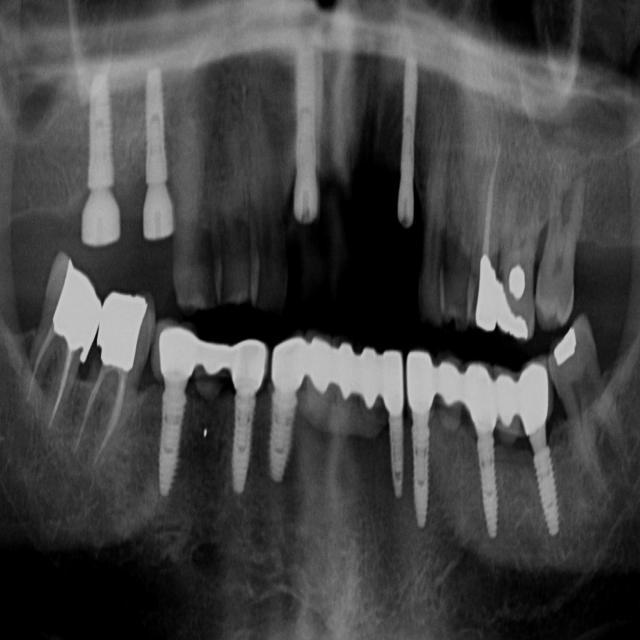infected-teeth: (6, 250, 103, 450), (62, 288, 153, 488), (466, 114, 509, 332)
